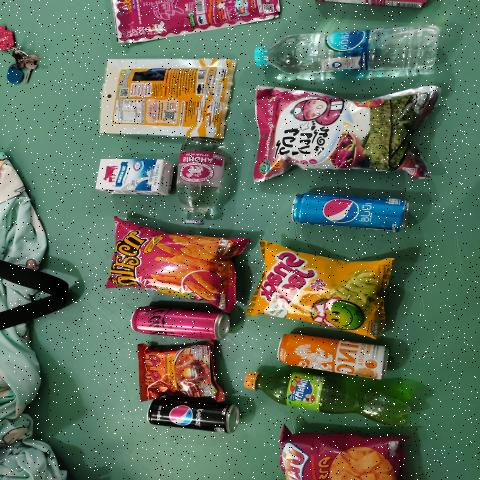coke_red: (129, 314, 240, 338)
crystal: (254, 21, 457, 81)
fanta_green: (251, 376, 424, 412)
mama: (136, 342, 220, 398)
pepsi_black: (145, 404, 246, 430)
pepsi_blue: (290, 190, 419, 228)
singha_soda: (171, 141, 235, 229)
singha_yellow: (268, 338, 392, 372)
snack_jack: (257, 264, 392, 318)
taokaenoi: (270, 89, 425, 170)
thai_denmark: (92, 154, 170, 200)
twisco: (114, 231, 245, 289)
